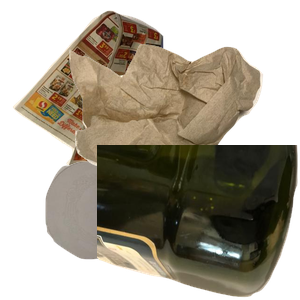glass: (43, 159, 187, 300)
paper: (10, 10, 217, 189)
plastic: (97, 145, 300, 300)
trash: (67, 42, 300, 206)
